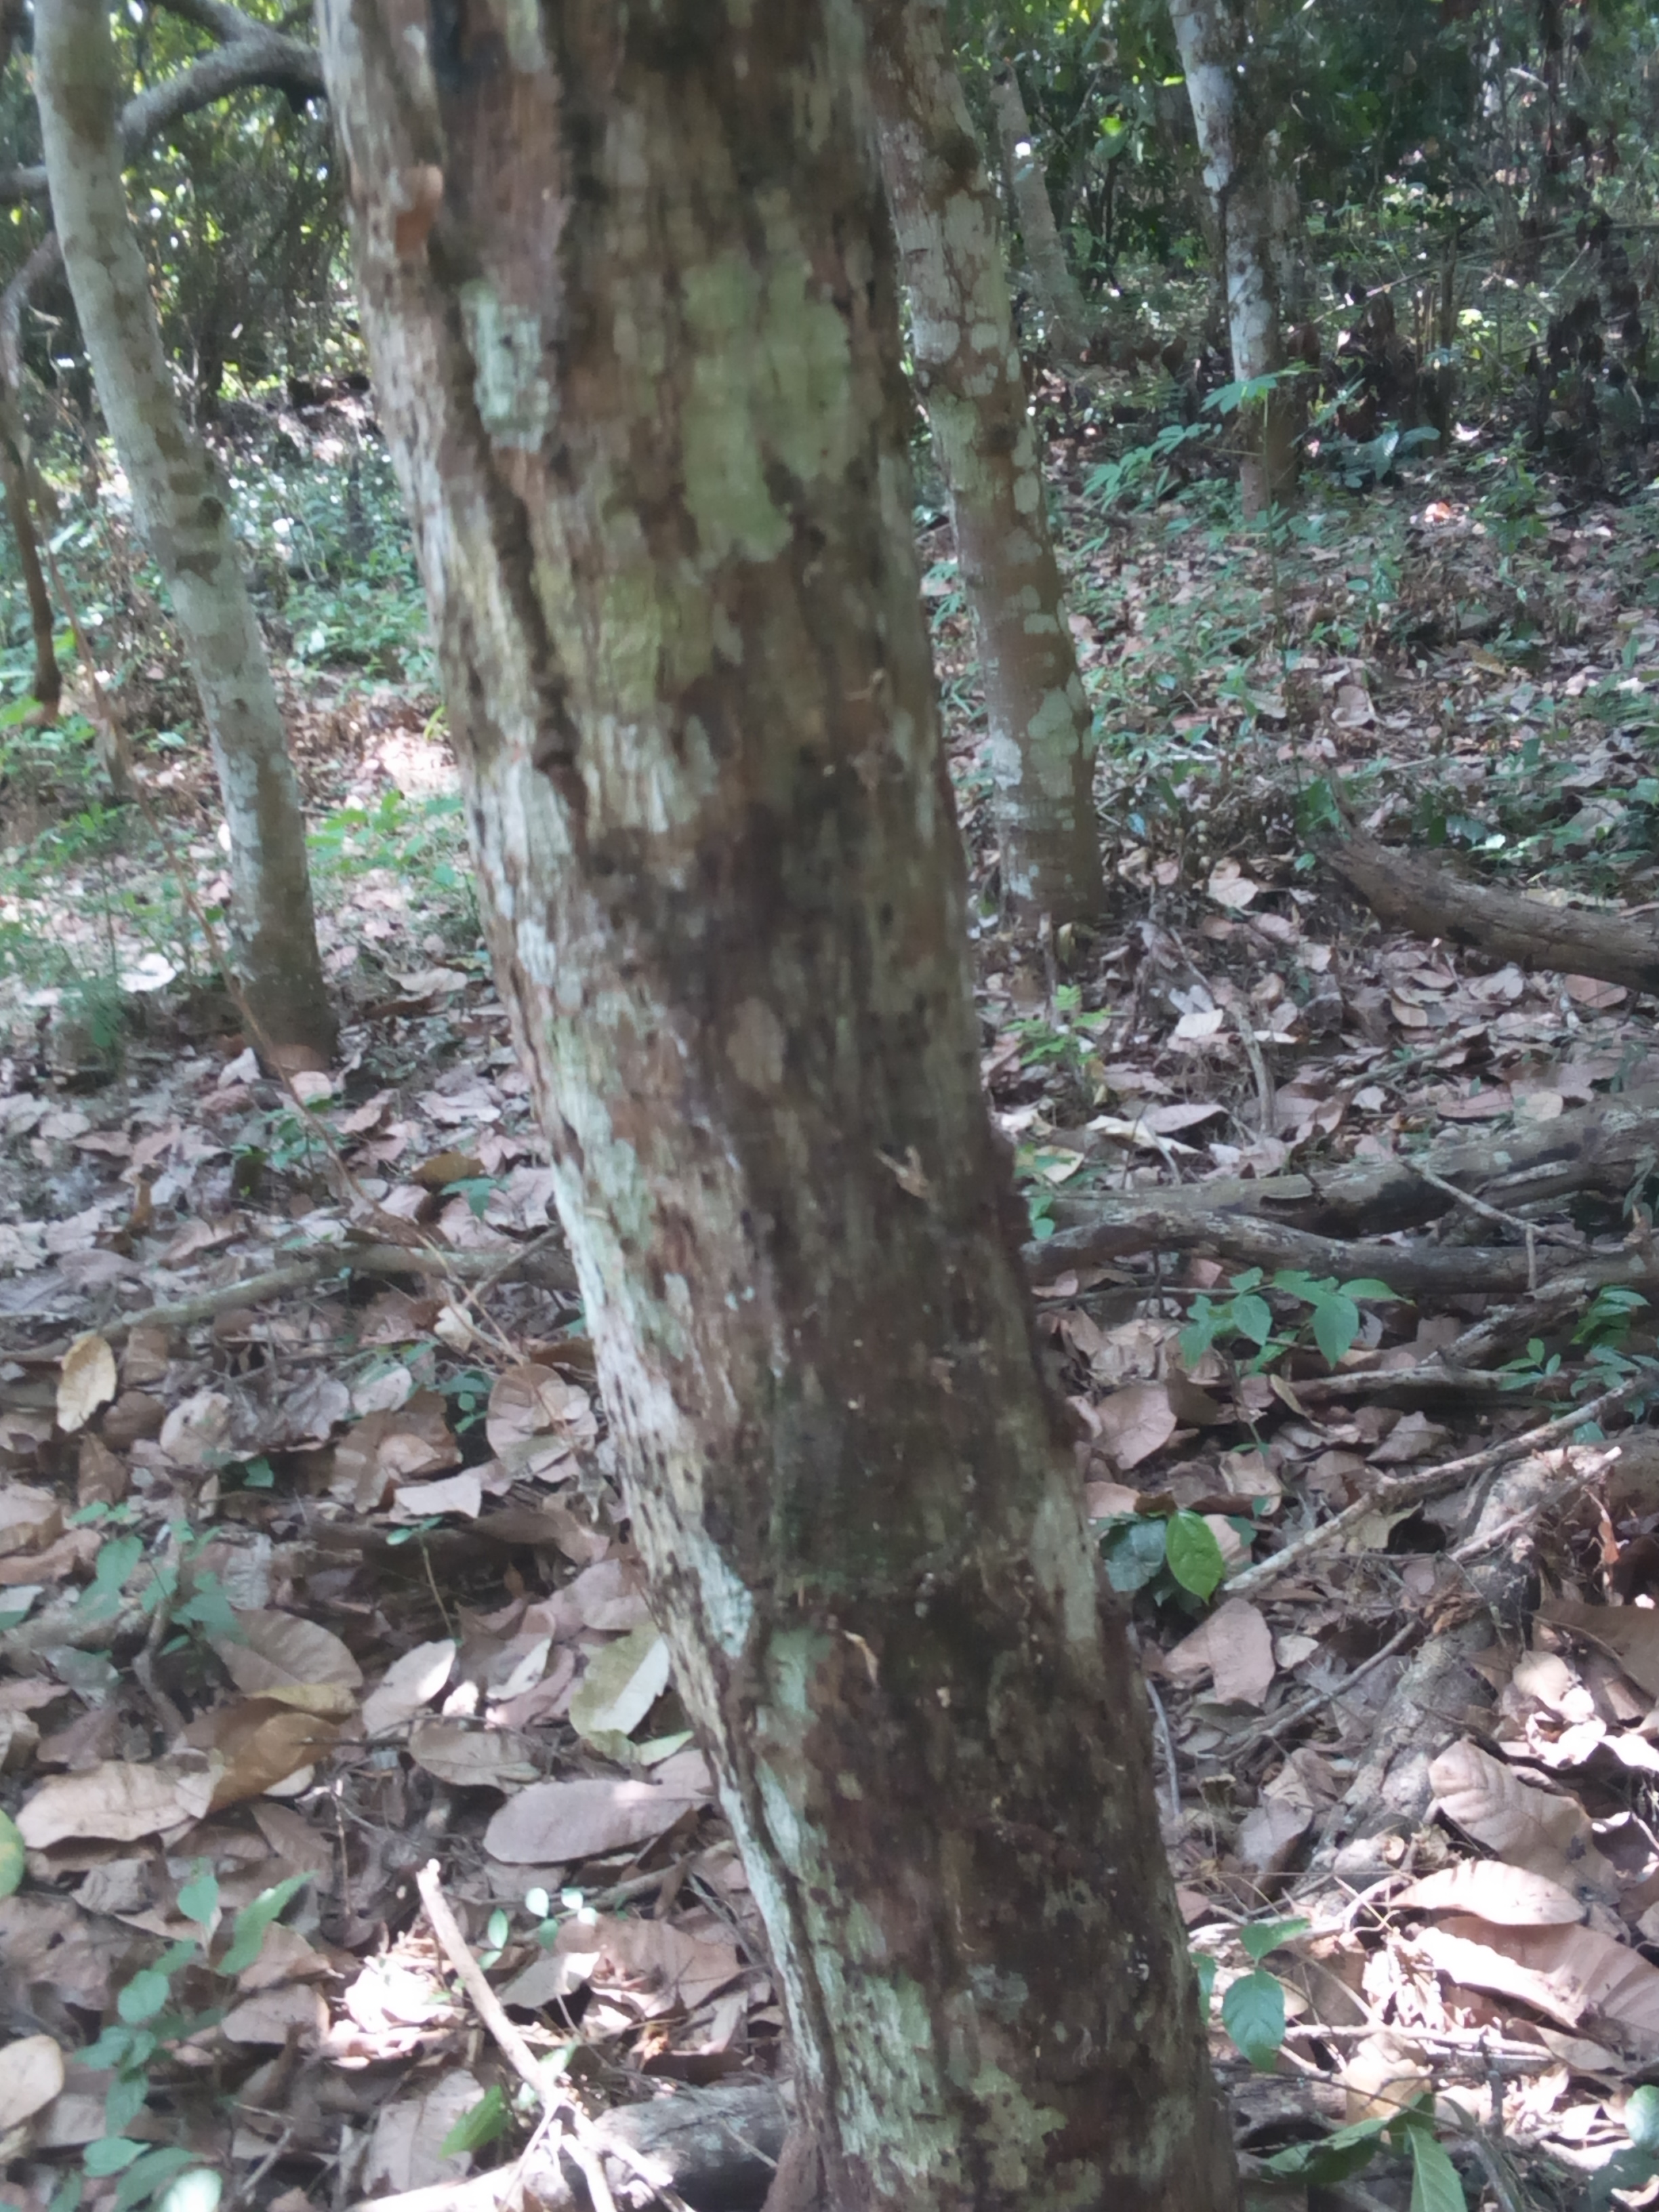Termites: (446, 24, 805, 1174)
